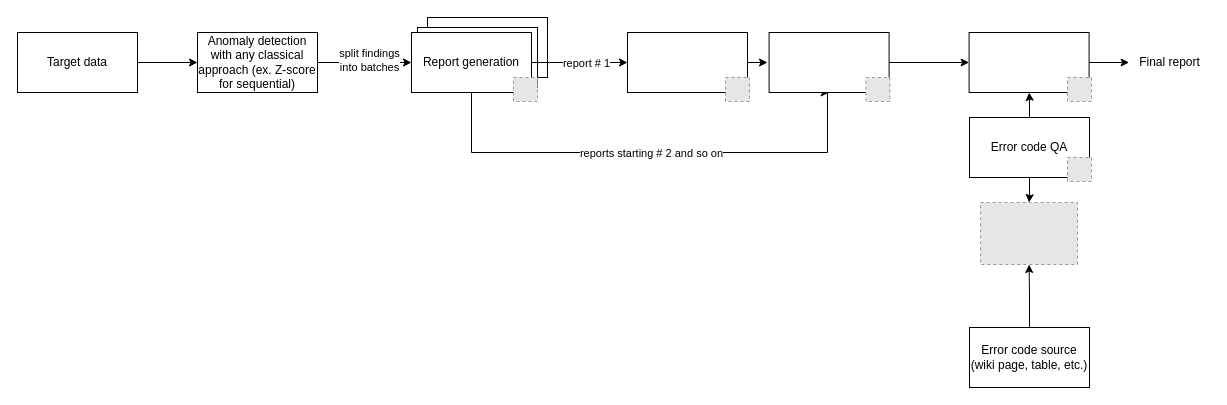
The diagram is 1227 pixels wide and 405 high, and some of its shapes have lost their labels. Grey dashed boxes stand in for pictures. The shapes that lost their labels are listed below. From the top down, each one's box as (x1, y1, x2, y2) in pixels, then its label:
(626, 32, 748, 92): Initial report combination
(768, 32, 889, 92): Report combination refinement loop
(968, 32, 1089, 92): Error code enrichment
